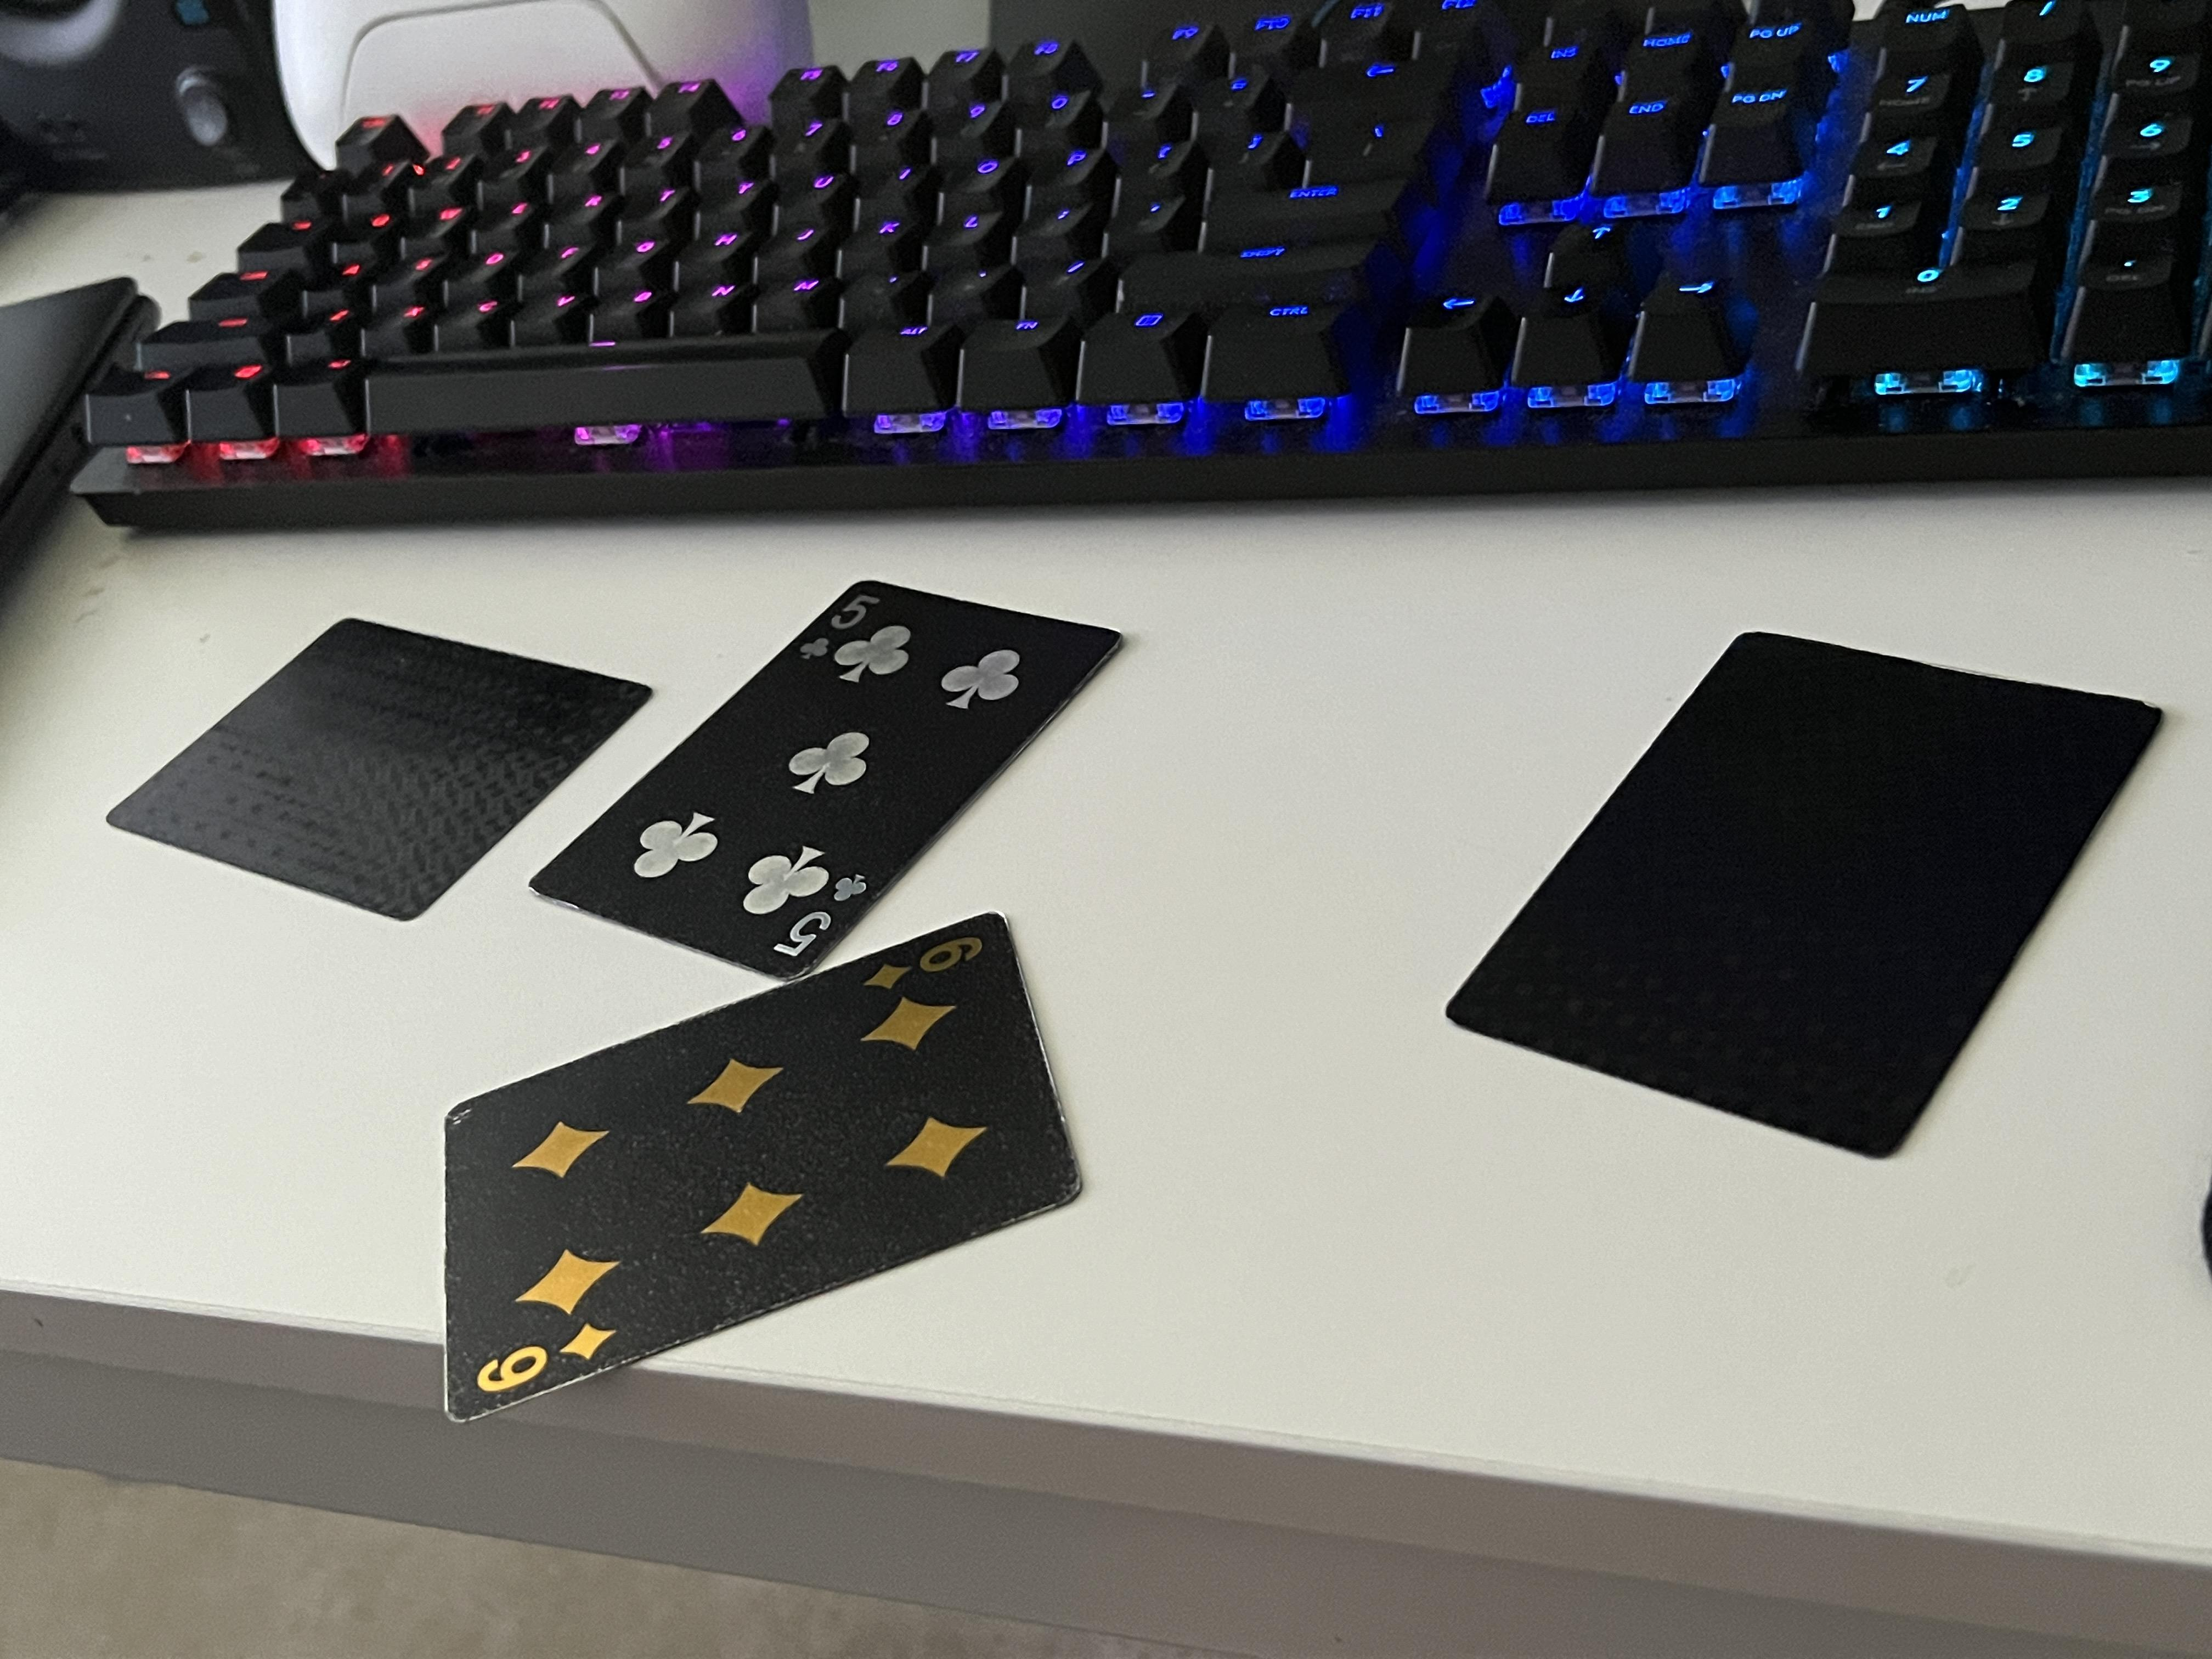5C: (768, 866, 871, 960), (792, 587, 881, 666)
6D: (469, 1314, 637, 1396), (855, 934, 995, 993)
BACK: (1430, 620, 2186, 1175), (94, 603, 667, 932)
